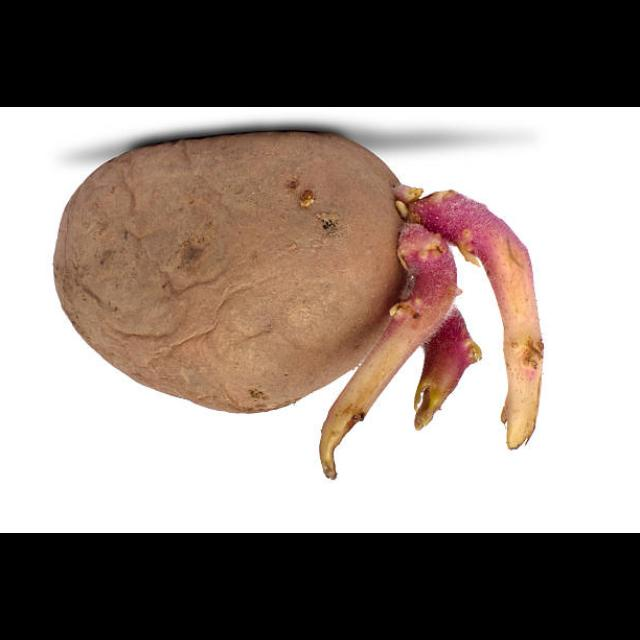Sprouted potato: (59, 136, 552, 488)
